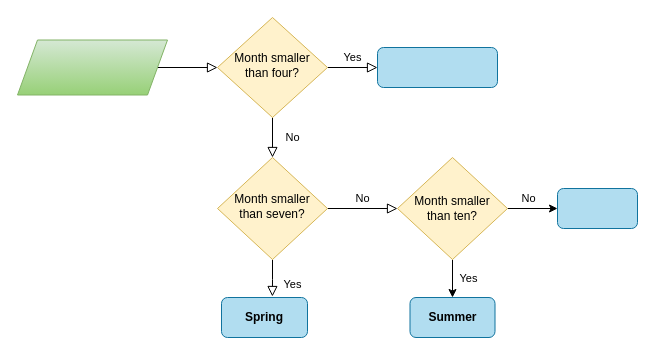
Some shapes in this 655 by 355 pixel diagram are drawn without their labels. Here are the shapes that lost their labels. From the top down, the centre of each, then its label:
the point at 92,67: Let user input month as a number from 1 .. 12
the point at 437,67: Winter
the point at 597,208: Autumn
